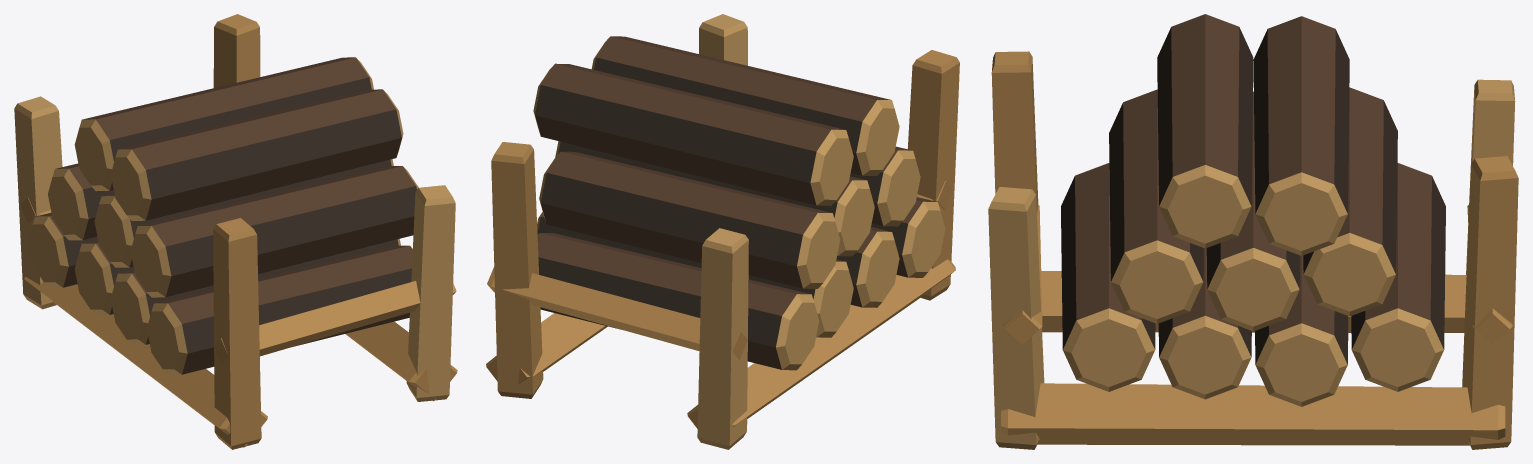
Rendered from LogPileStacked.glb.
3 views of the same model, side by side, from view 1: azimuth 30°, elevation 25°; view 2: azimuth 150°, elevation 25°; view 3: azimuth 270°, elevation 25° (orthographic). The views are drawn at different scales.
Visible parts, largest first — view 1: Stack_Log_07, Stack_Log_04, Stack_Log_08, Stack_Log_00, Stake_0_0.001, Stake_1_0.001, Stake_0_1.001, SideRail_0.001, Bearer_0.001, Stack_Log_05, Stack_Log_01, Stack_Log_06 (+4 smaller); view 2: Stack_Log_08, Stack_Log_06, Stack_Log_07, Stack_Log_03, Stake_1_1.001, Stake_0_1.001, Stake_0_0.001, SideRail_1.001, Bearer_0.001, Stack_Log_05, Stack_Log_02, Stack_Log_00 (+4 smaller); view 3: Bearer_1.001, Stack_Log_08, Stack_Log_07, Stack_Log_04, Stack_Log_03, Stack_Log_00, Stack_Log_06, Stake_1_1.001, Stake_1_0.001, Stack_Log_02, Stack_Log_05, Stack_Log_01 (+5 smaller).
Part boxes in pixels (x1,y1,x2,y2): Stack_Log_07: (110,89,403,220); Stack_Log_04: (130,166,418,297); Stack_Log_08: (74,57,373,191); Stack_Log_00: (147,245,412,374); Stake_0_0.001: (213,218,261,449); Stake_1_0.001: (406,185,455,401); Stake_0_1.001: (14,96,62,309); SideRail_0.001: (213,281,456,365); Bearer_0.001: (24,277,267,447); Stack_Log_05: (94,159,393,267); Stack_Log_01: (110,239,400,345); Stack_Log_06: (48,163,114,240); Stack_Log_08: (533,63,853,205); Stack_Log_06: (539,151,840,288); Stack_Log_07: (591,36,899,175); Stack_Log_03: (537,233,819,370); Stake_1_1.001: (491,142,543,398); Stake_0_1.001: (697,228,748,449); Stake_0_0.001: (907,50,959,300); SideRail_1.001: (487,266,747,359); Bearer_0.001: (687,259,955,428); Stack_Log_05: (555,141,874,256); Stack_Log_02: (537,212,853,337); Stack_Log_00: (871,197,945,277); Bearer_1.001: (1001,383,1505,445); Stack_Log_08: (1253,16,1349,255); Stack_Log_07: (1157,14,1253,248); Stack_Log_04: (1109,89,1203,323); Stack_Log_03: (1351,163,1445,391); Stack_Log_00: (1061,163,1155,391); Stack_Log_06: (1303,87,1397,316); Stake_1_1.001: (1462,156,1518,449); Stake_1_0.001: (988,187,1044,449); Stack_Log_02: (1255,255,1348,406); Stack_Log_05: (1206,91,1299,331); Stack_Log_01: (1158,248,1251,399).
Size of the model in its own units: 1.38 by 1.17 by 1.87.
